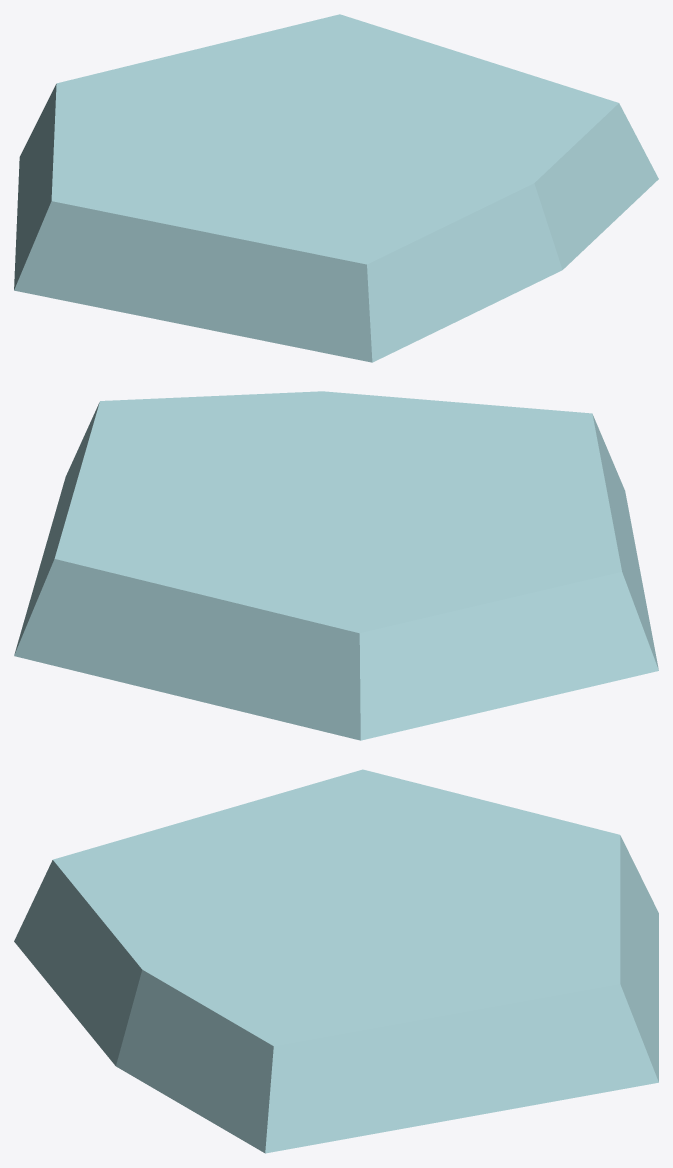
File: stone_smallFlatA.glb
3 renders of one model, top to bottom at view 1: azimuth 30°, elevation 25°; view 2: azimuth 150°, elevation 25°; view 3: azimuth 270°, elevation 25°, orthographic. The views are drawn at different scales.
Visible parts, largest first — view 1: stone_smallFlatA; view 2: stone_smallFlatA; view 3: stone_smallFlatA.
Boxes of the visible parts, left/top/right/bottom form: stone_smallFlatA: left=14, top=14, right=658, bottom=362; stone_smallFlatA: left=14, top=391, right=658, bottom=740; stone_smallFlatA: left=14, top=769, right=658, bottom=1153.
Size of the model in its own units: 0.4958 by 0.0649 by 0.4296.
